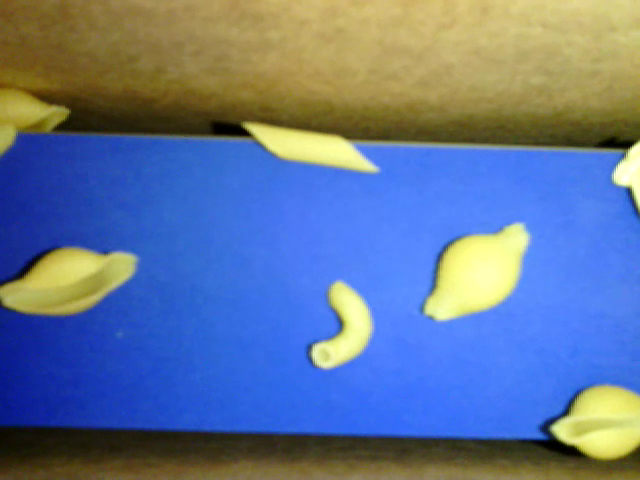elbow: (311, 279, 374, 369), (1, 123, 22, 157)
penne: (240, 117, 377, 172)
shell: (421, 218, 531, 324), (1, 245, 140, 318), (547, 386, 639, 461), (1, 86, 71, 135)
